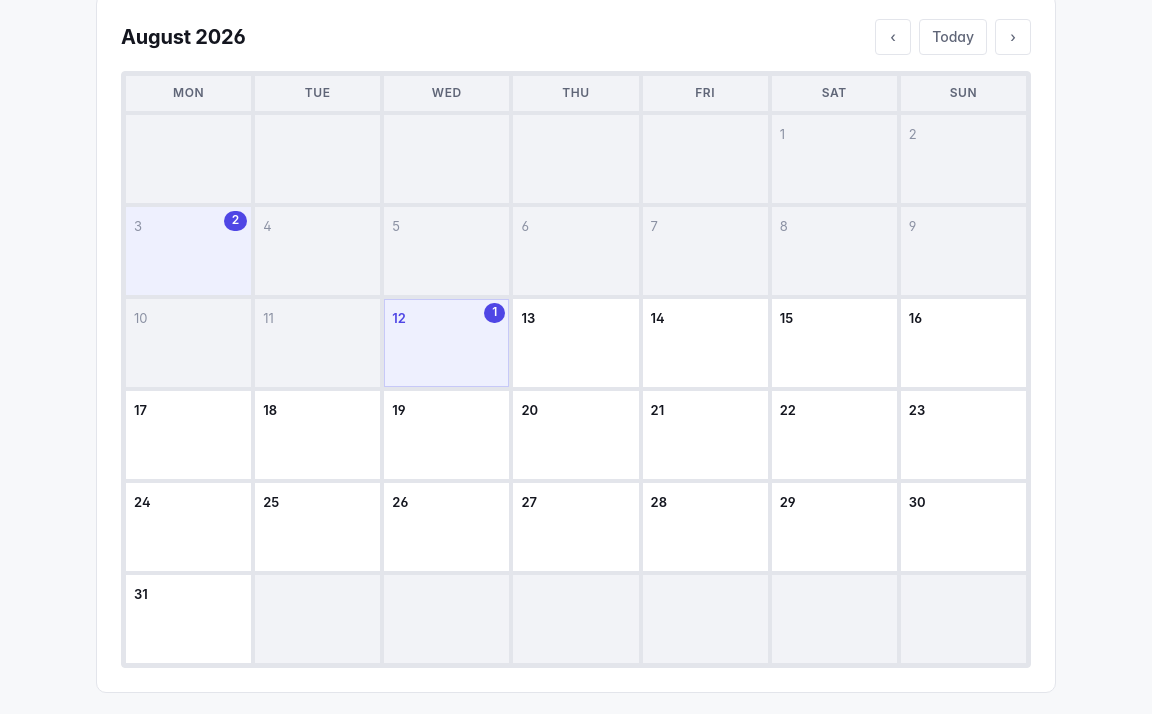
Calendar page › says a day is empty rather than showing an empty list
The width and height of the screenshot is (1152, 714).
# The 5th is inside the month but absent from the server's answer.
Click the element with class "cal-cell" showing "5" at {"x": 447, "y": 251}, box [384, 207, 509, 295]
(page scrolled)
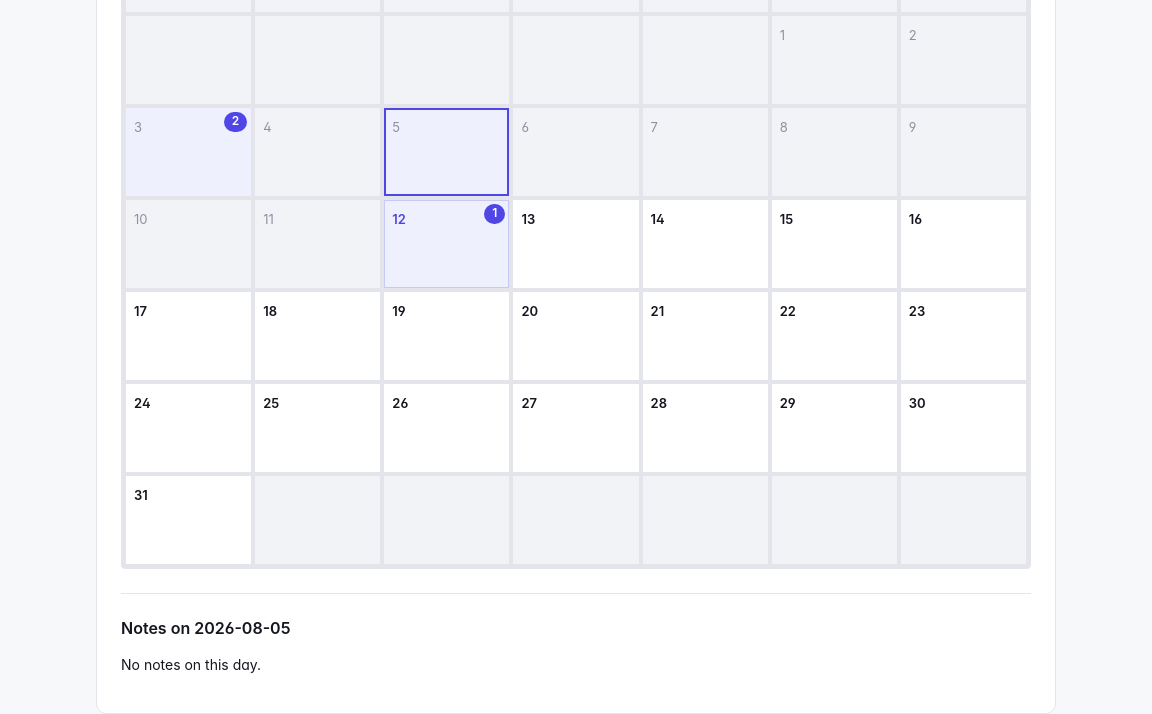
Now the text "No notes on this day." is shown, box [121, 656, 261, 673]
